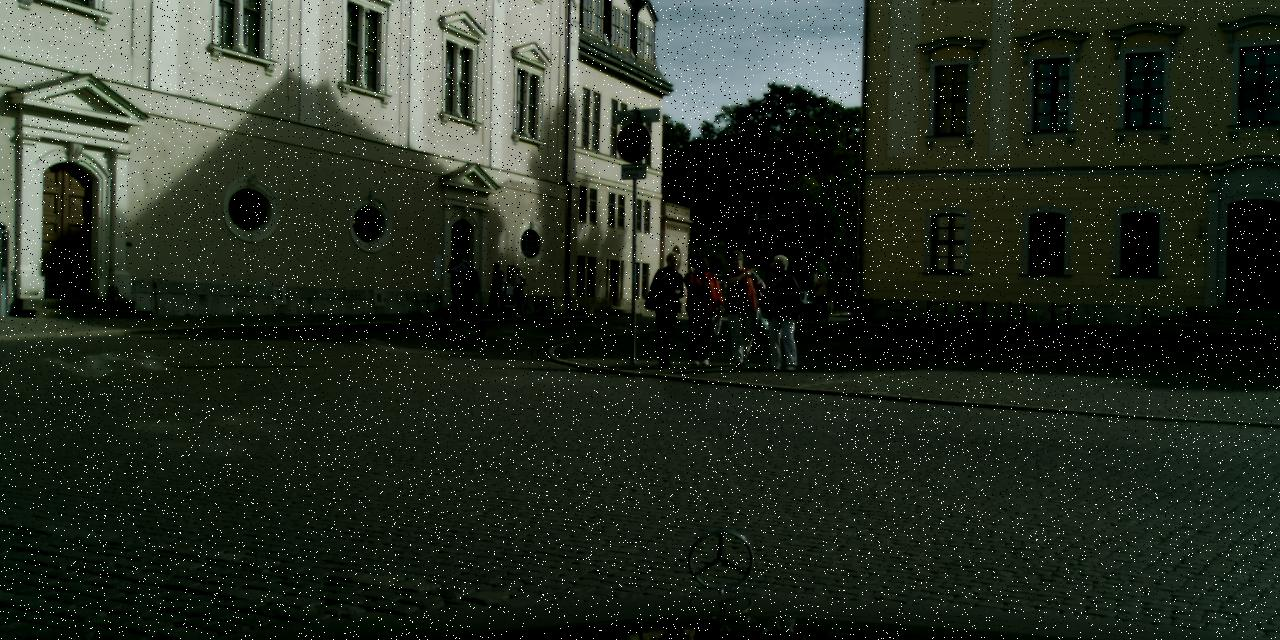ped: (758, 254, 805, 369), (714, 250, 761, 364), (646, 252, 692, 364), (677, 254, 721, 364), (439, 251, 474, 335), (762, 261, 784, 316), (487, 263, 508, 315), (810, 270, 830, 321), (508, 267, 528, 316)
